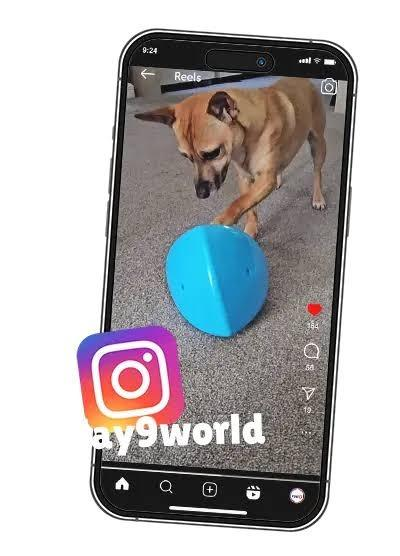adult_dog: (136, 77, 329, 241)
